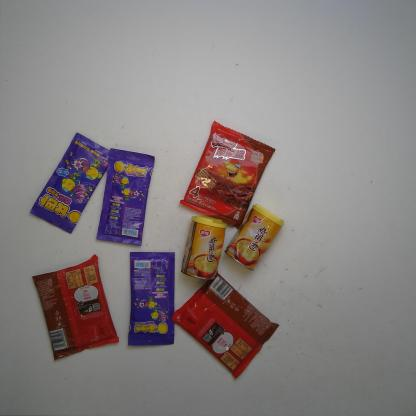Candy: (29, 133, 110, 237), (122, 243, 177, 352), (96, 147, 155, 247)
Canned Food: (223, 200, 288, 273), (180, 213, 228, 282)
Dessert: (171, 270, 280, 380), (177, 118, 277, 233), (31, 254, 120, 361)
